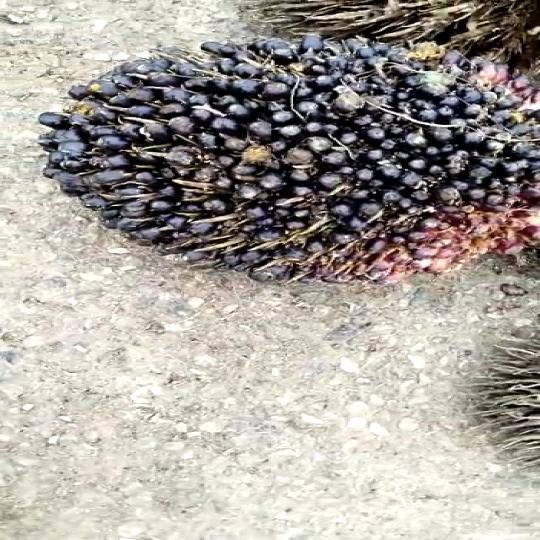mentah: (19, 19, 540, 279)
